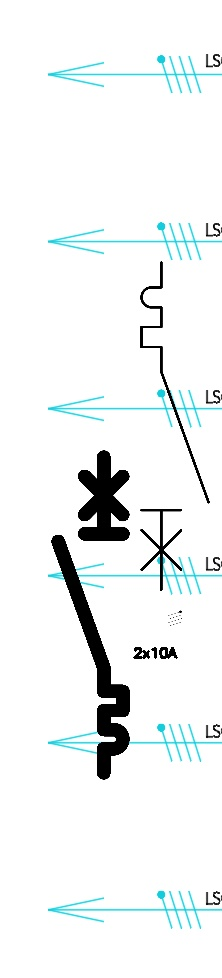interruptor_termomagnetico: (133, 254, 217, 598), (50, 449, 131, 781)
